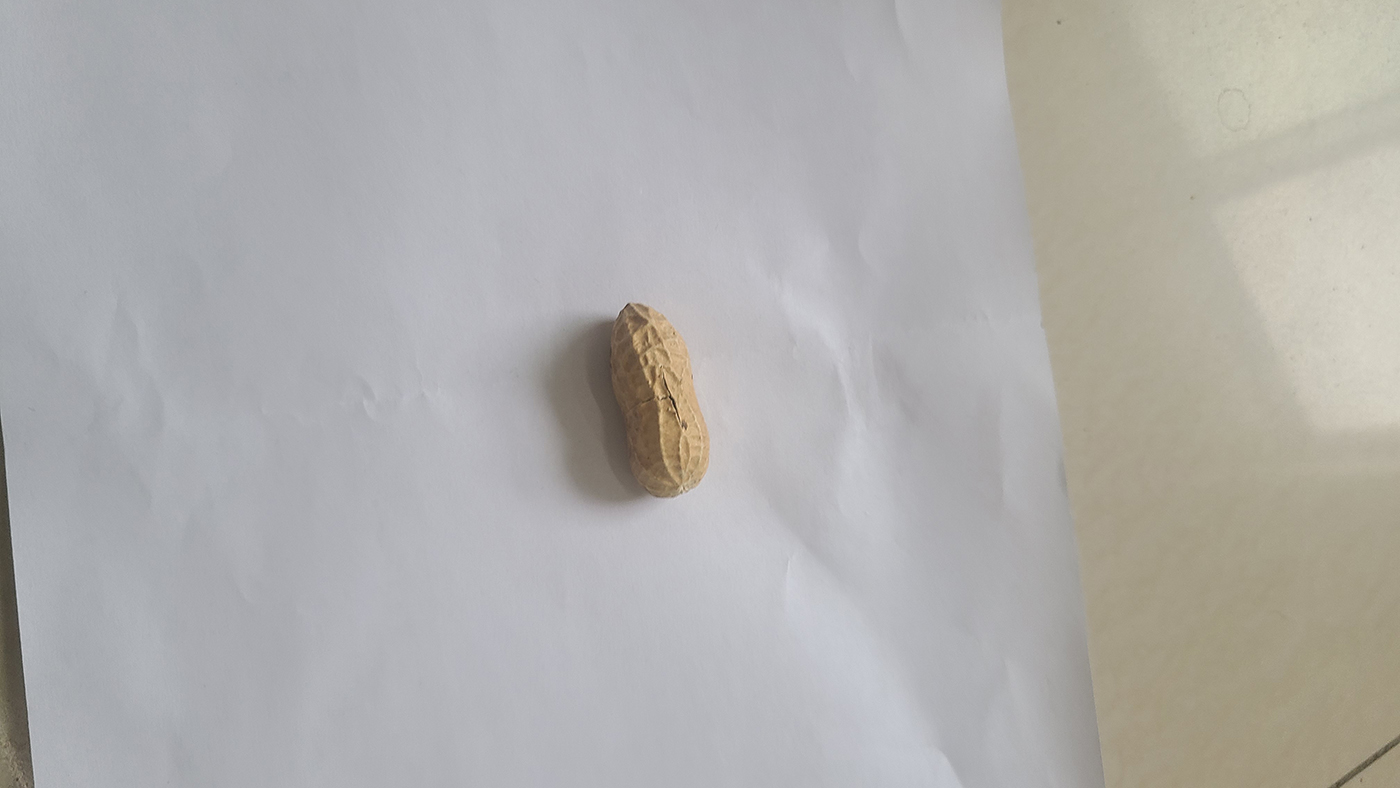h: (607, 299, 710, 500)
